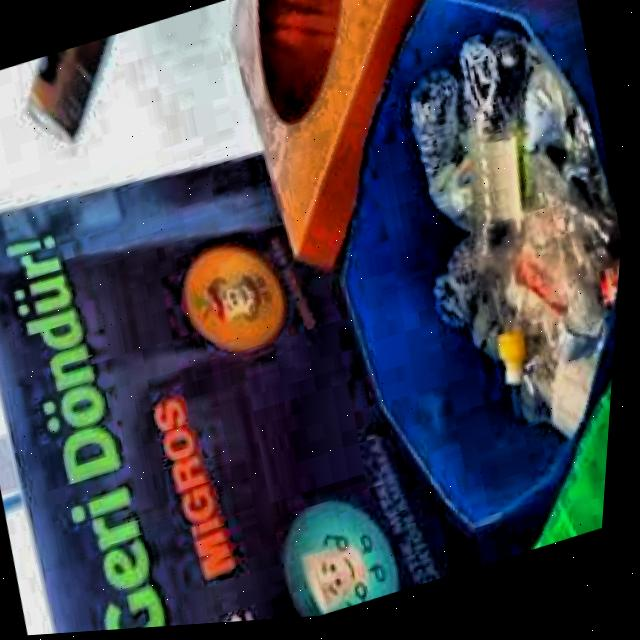metal: (32, 37, 109, 139)
